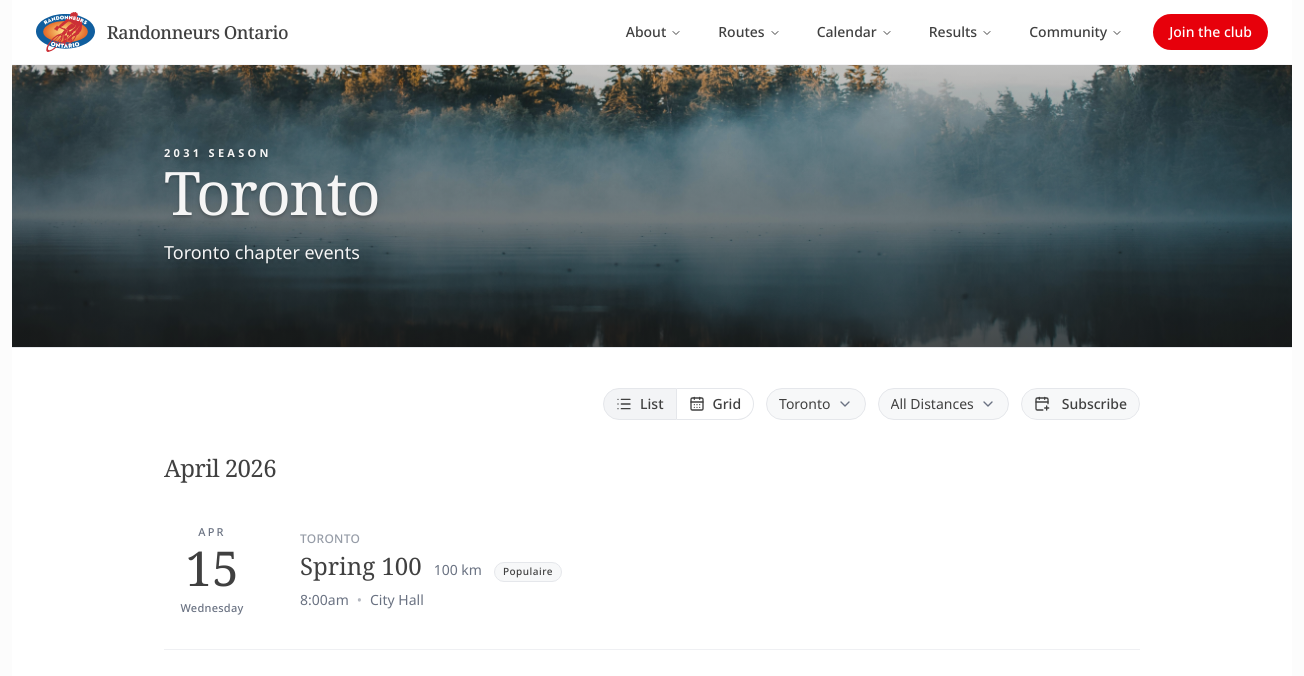
Test case: CalendarPage › can switch back to all distances
Filter to 200 km
Step 1. Click the dropdown named "Filter by distance" → (943, 404), box x1=878 y1=388 x2=1009 y2=420
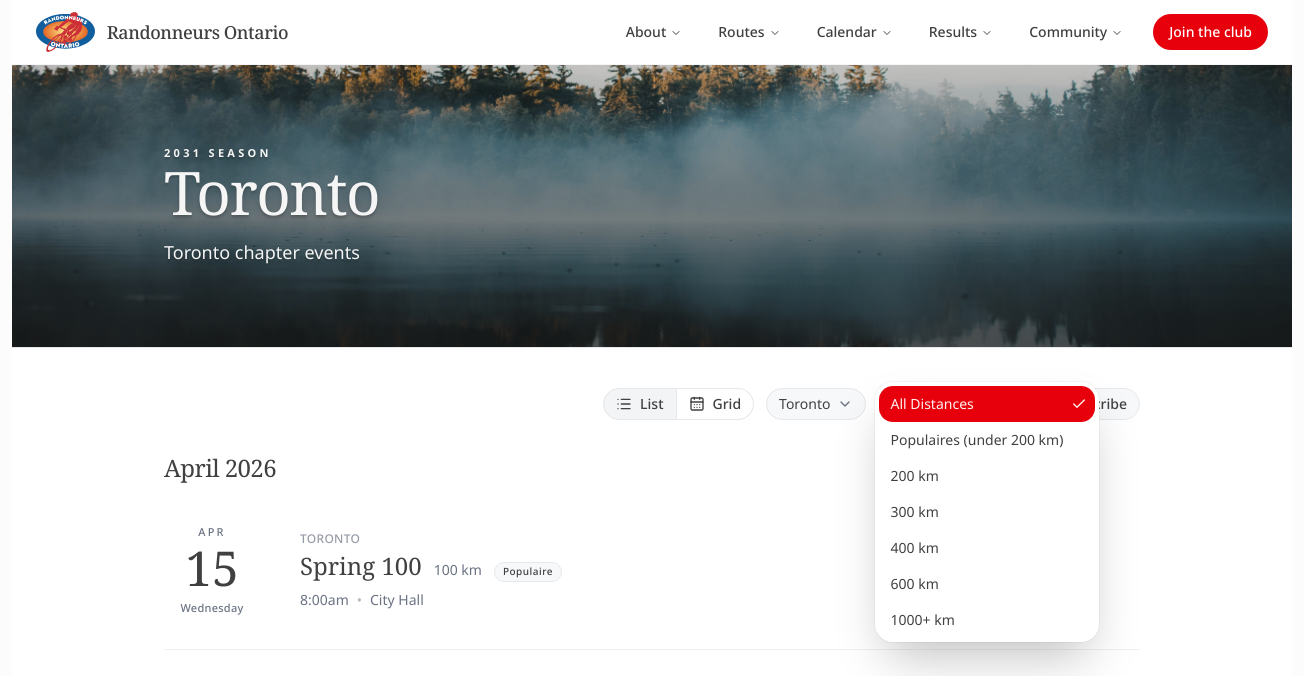
Step 2. Click the option "200 km" → (915, 475), box x1=890 y1=466 x2=939 y2=485
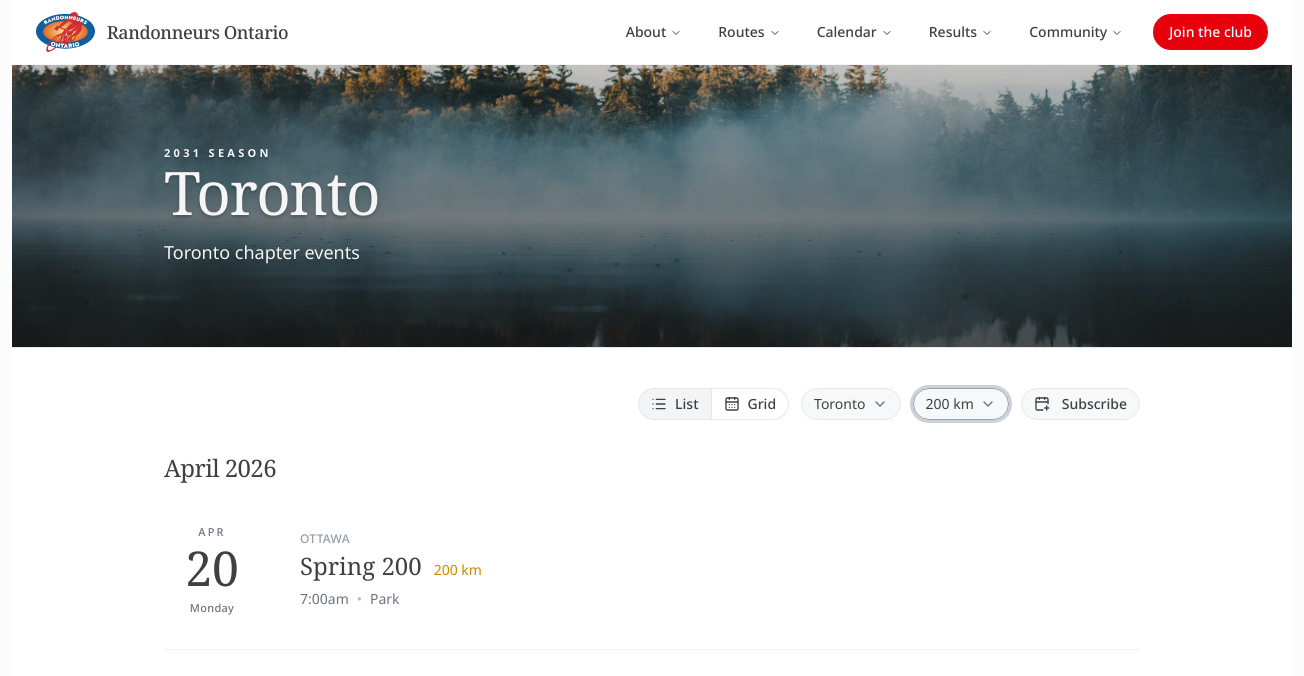
Expected: the link "Spring 100" is gone
Switch back to all
Step 3. Click the dropdown named "Filter by distance" → (961, 404), box x1=912 y1=388 x2=1009 y2=420
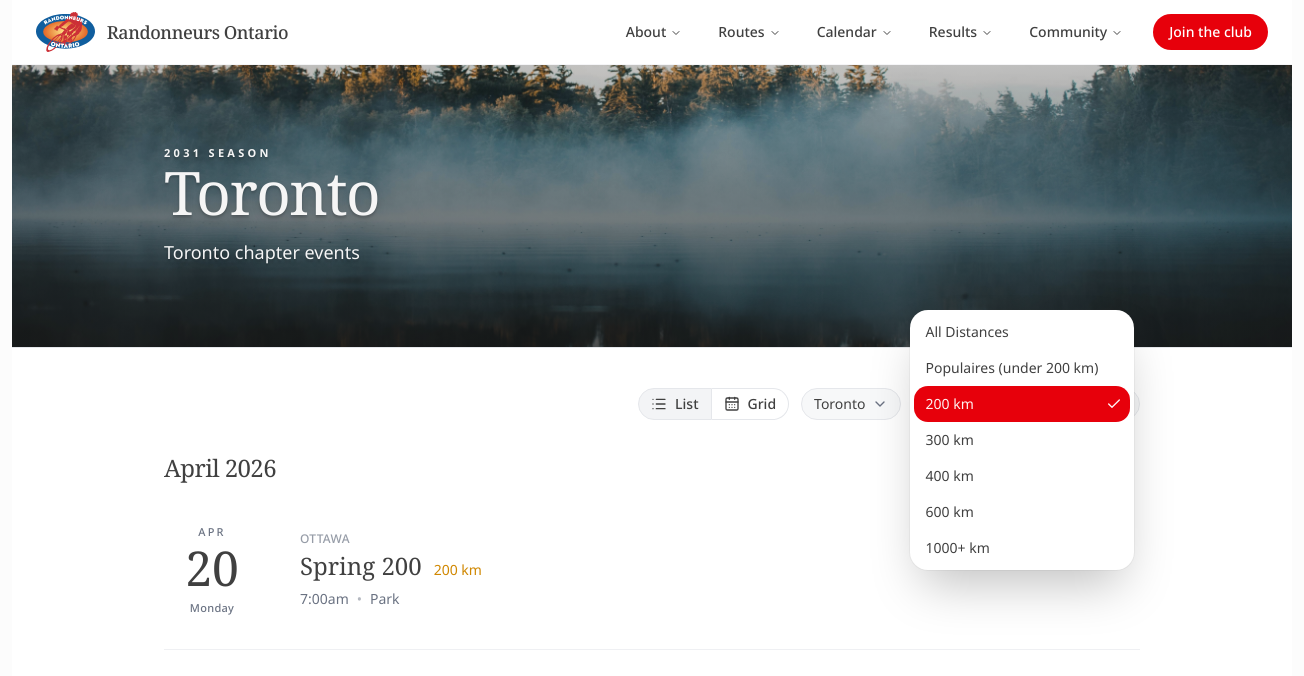
Step 4. Click the option "All Distances" → (967, 331), box x1=926 y1=322 x2=1009 y2=341
(page scrolled)
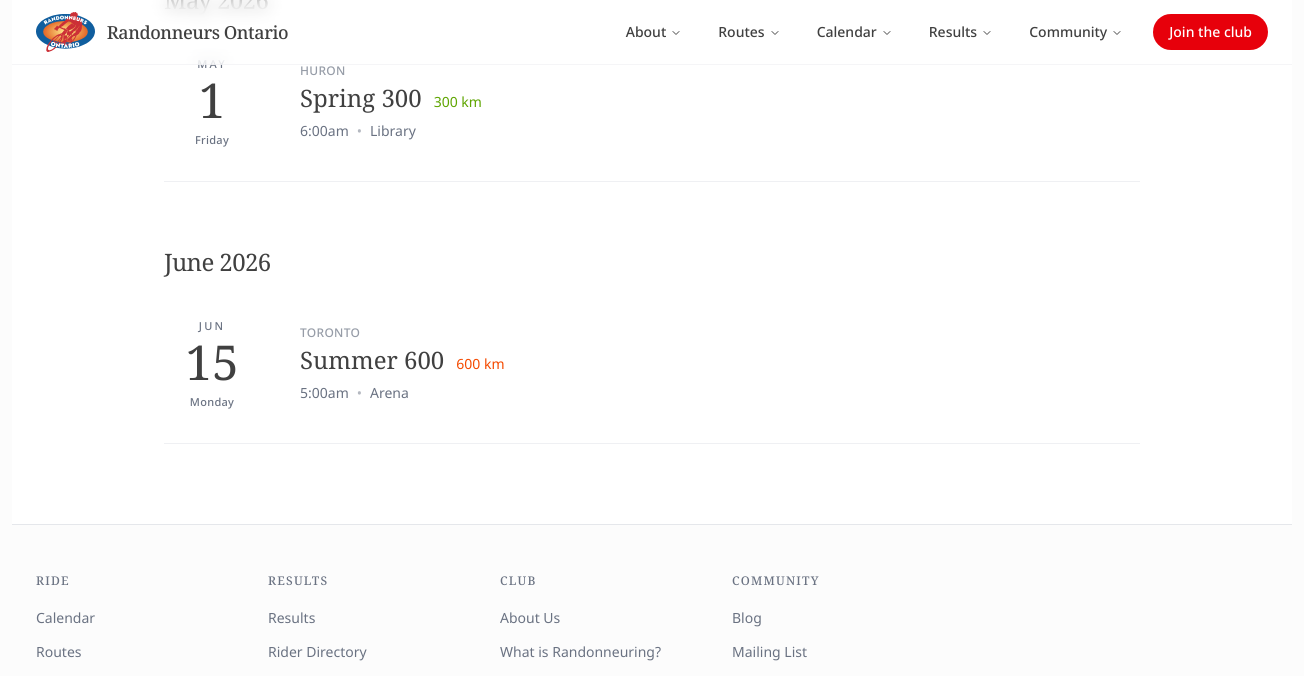
Expected: the link "Spring 300" is shown, x1=300 y1=81 x2=422 y2=115
Expected: the link "Summer 600" is shown, x1=300 y1=343 x2=444 y2=377
